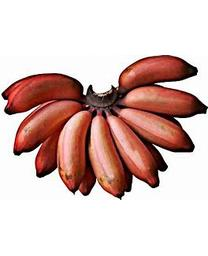banana: (1, 54, 204, 199)
